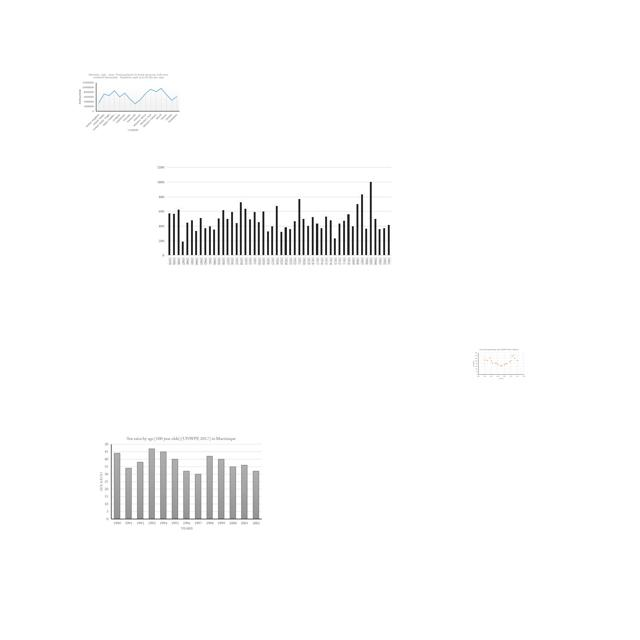Graph: (156, 162, 392, 268), (97, 434, 264, 534), (77, 71, 181, 133), (472, 348, 526, 380)
